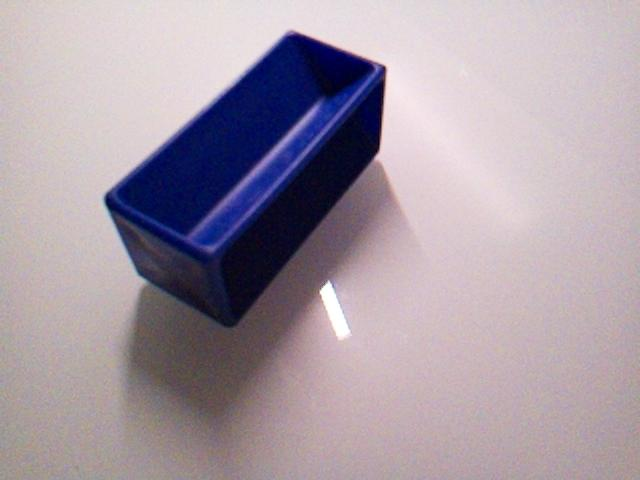blue: (103, 28, 388, 329)
